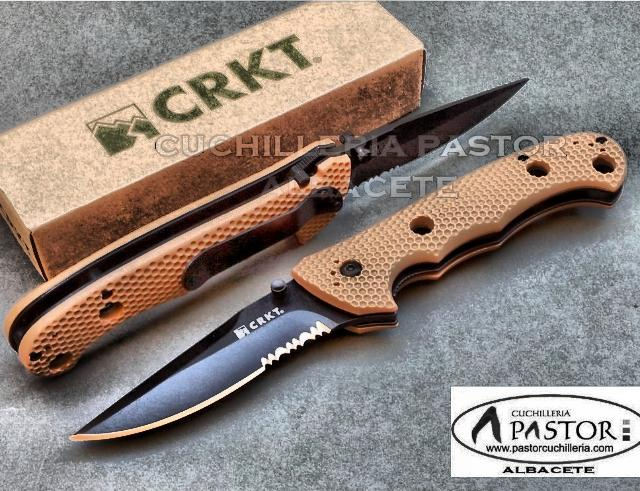knife: (58, 260, 362, 446), (348, 72, 534, 188)
